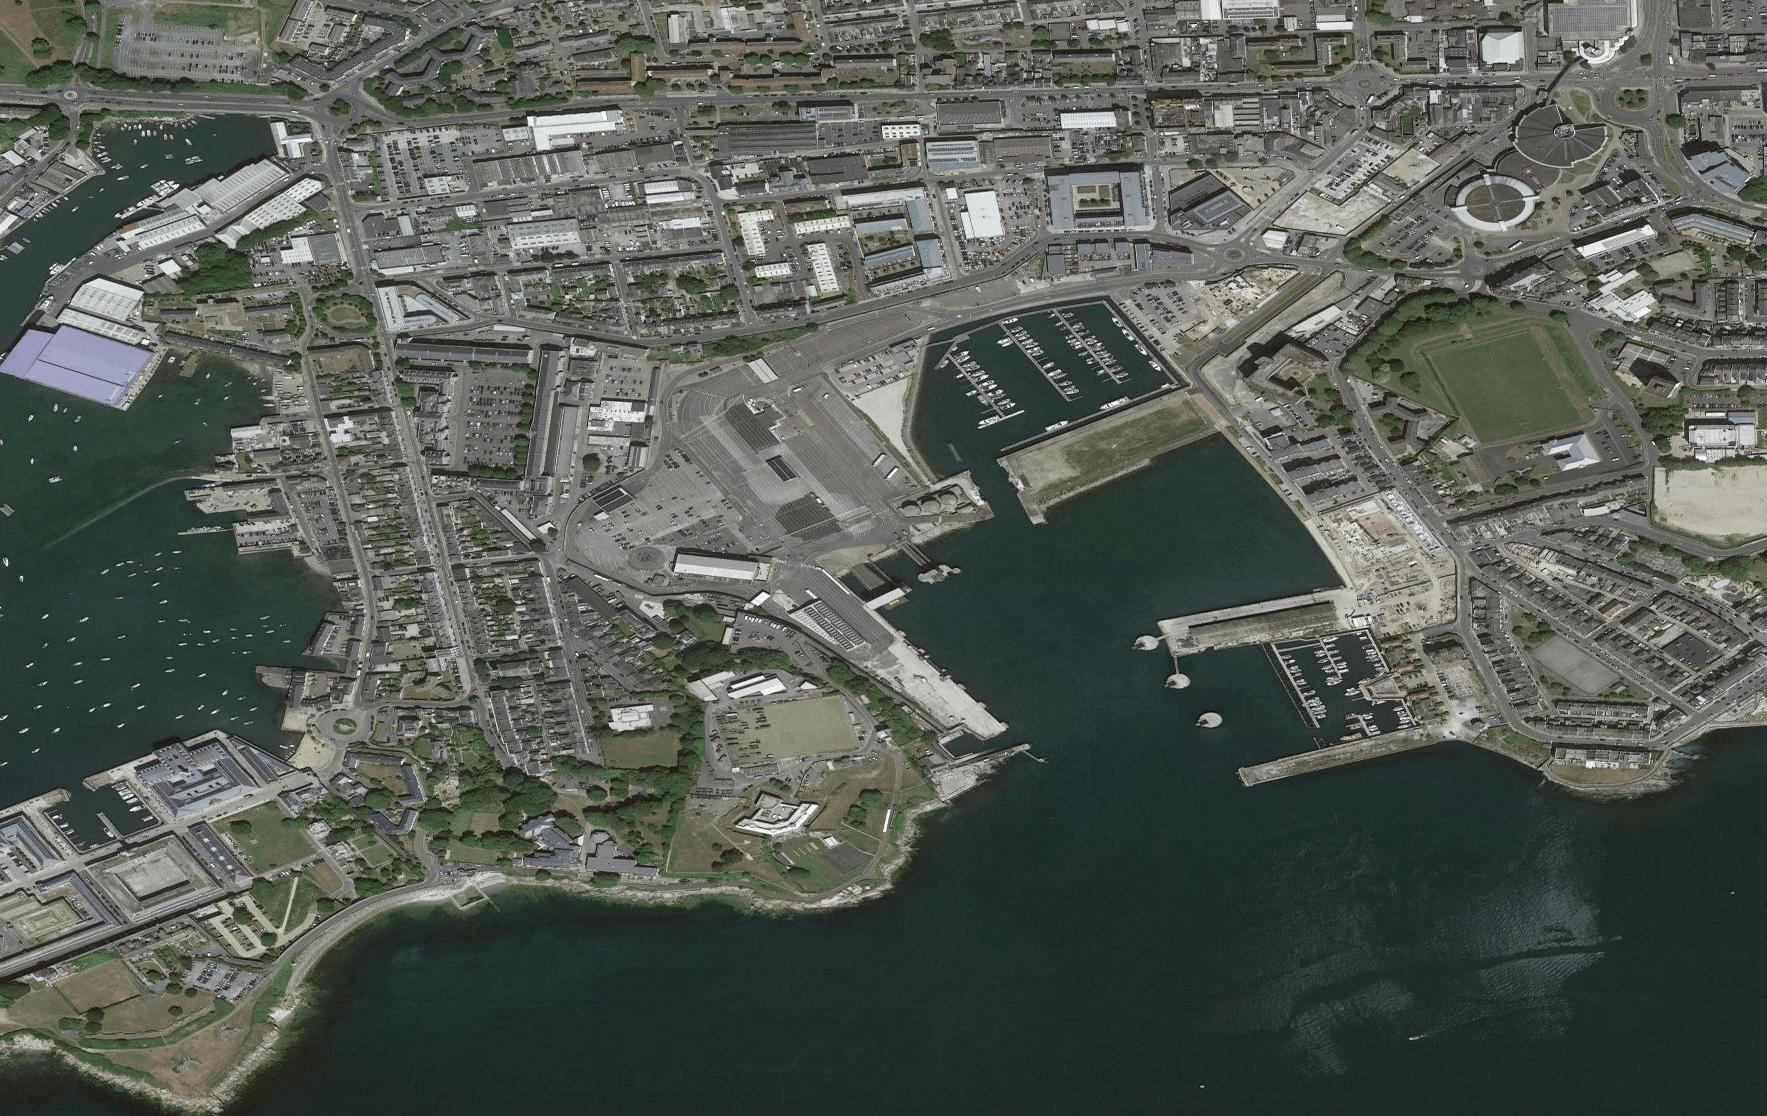harbor: (686, 261, 1385, 874), (1, 105, 344, 869)
